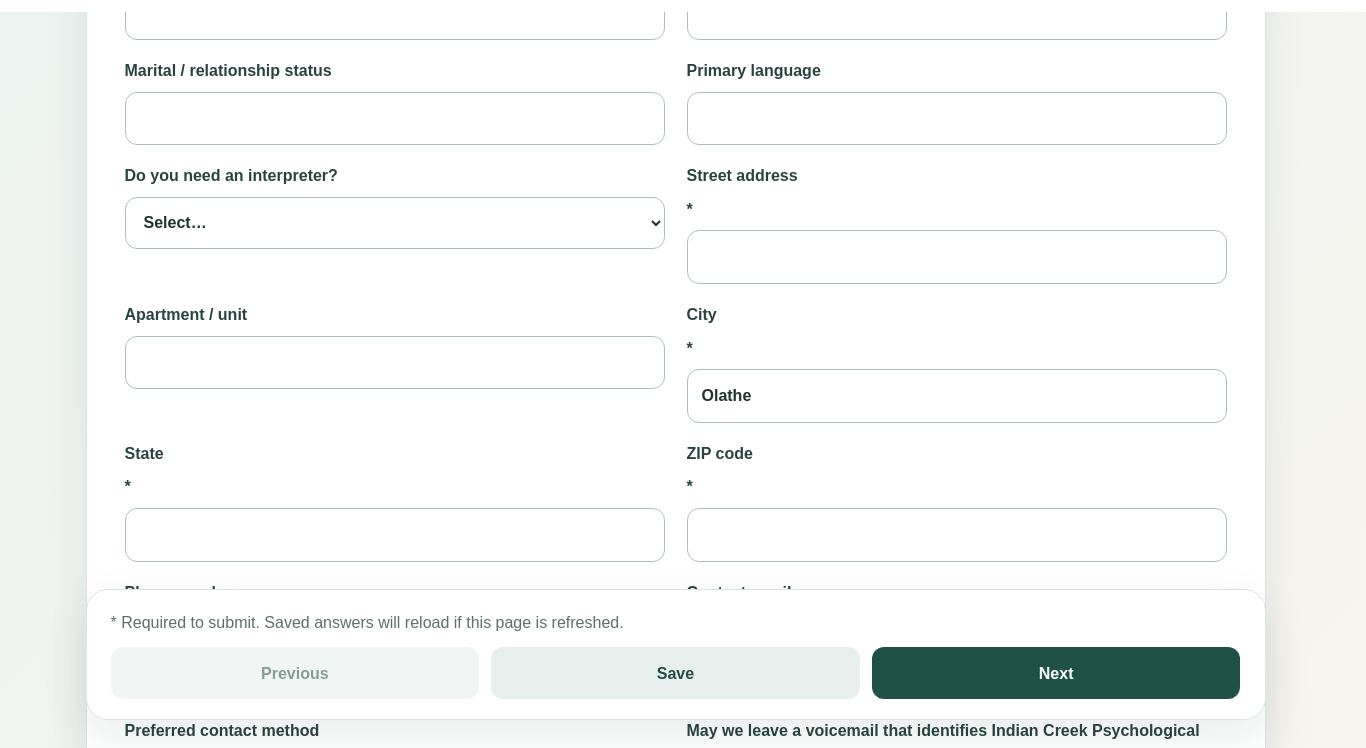
Test: patient can type and save a kiosk draft repeatedly despite database key reordering
(page scrolled)
Replace the text in the field labelled "City *" with "Lenexa" at (956, 396), box x1=686 y1=369 x2=1226 y2=423
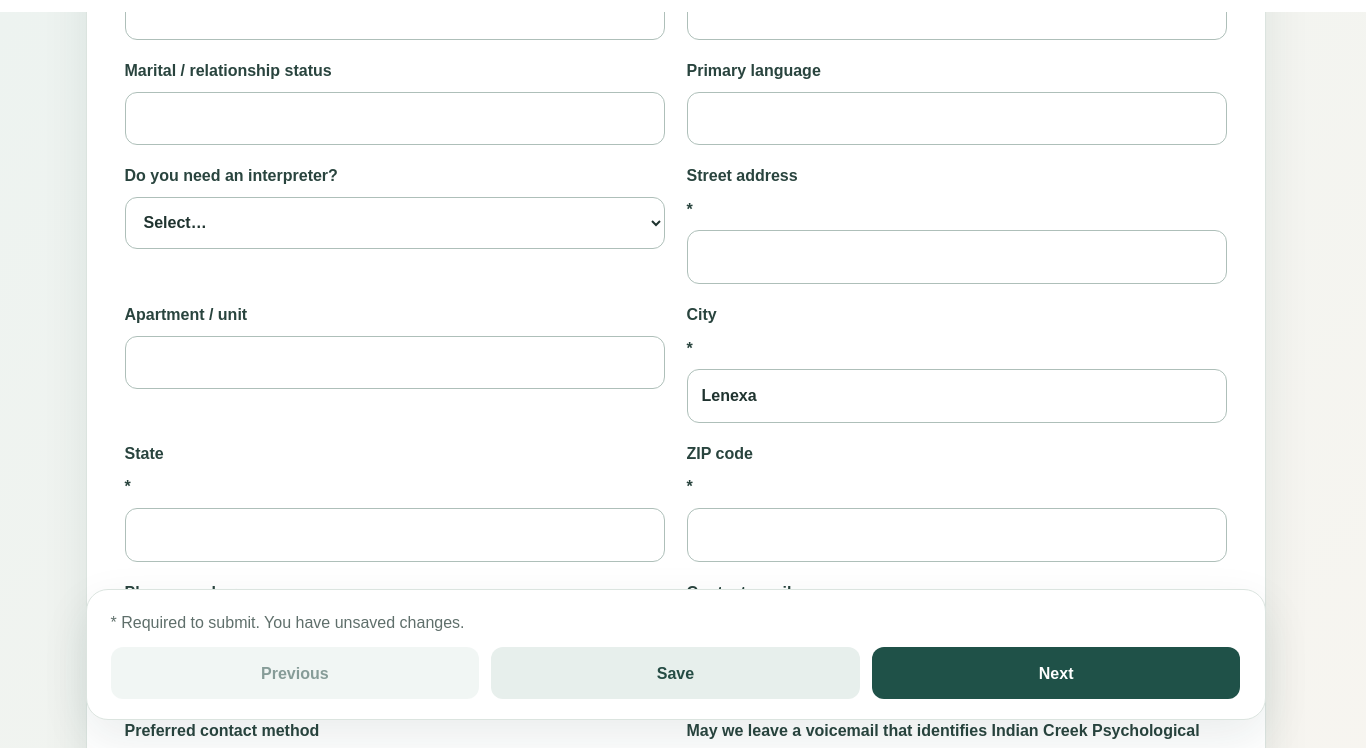
Click the button "Save" at (676, 673), box x1=491 y1=647 x2=860 y2=699
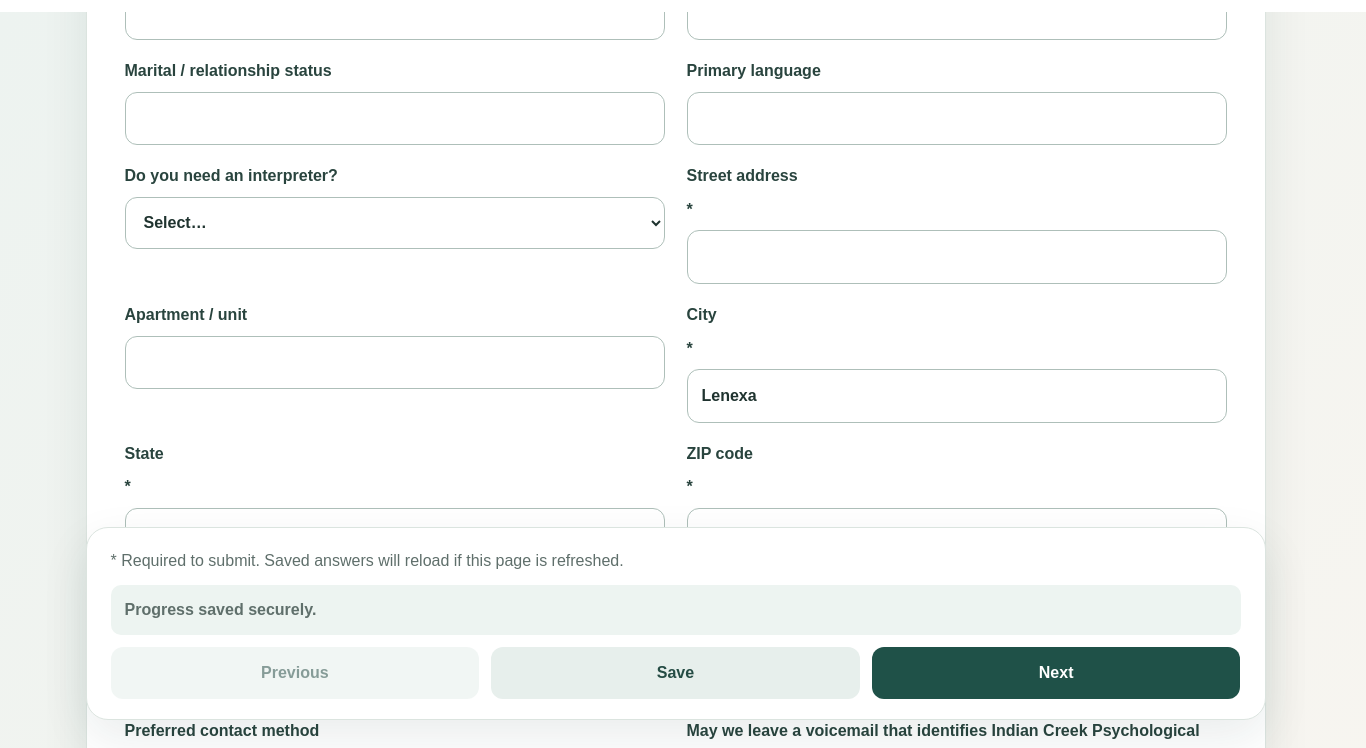
Check: the text "Progress saved securely." is shown, box x1=110 y1=585 x2=1240 y2=635
Replace the text in the field labelled "City *" with "Shawnee" at (956, 396), box x1=686 y1=369 x2=1226 y2=423
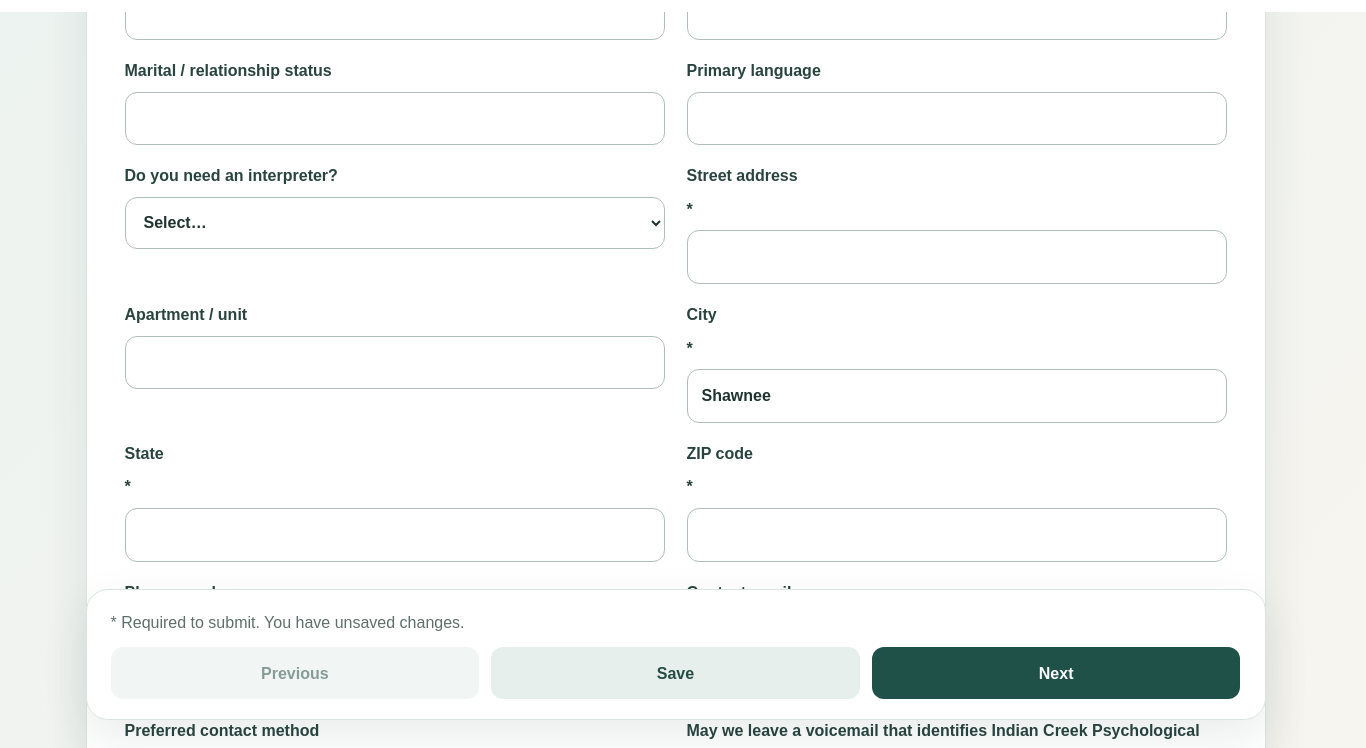
Click the button "Save" at (676, 673), box x1=491 y1=647 x2=860 y2=699
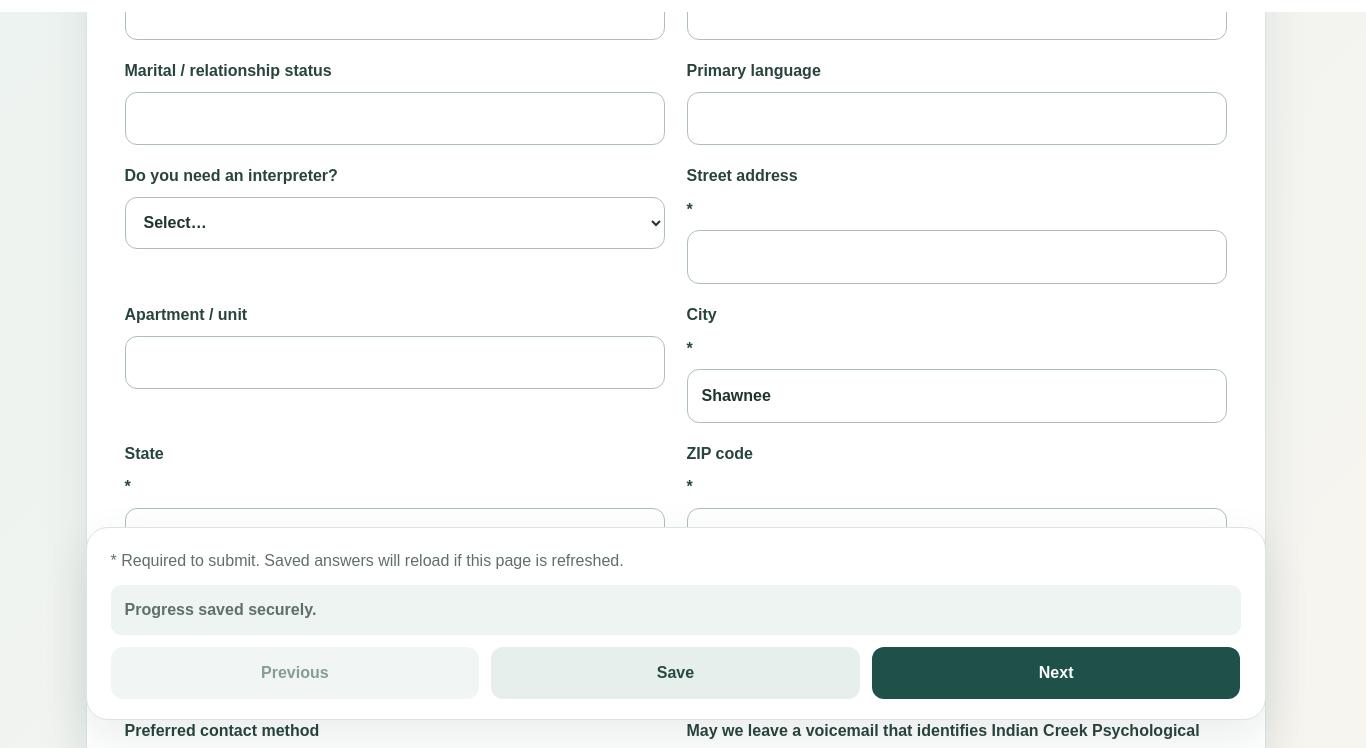
Check: the text "Progress saved securely." is shown, box x1=110 y1=585 x2=1240 y2=635
